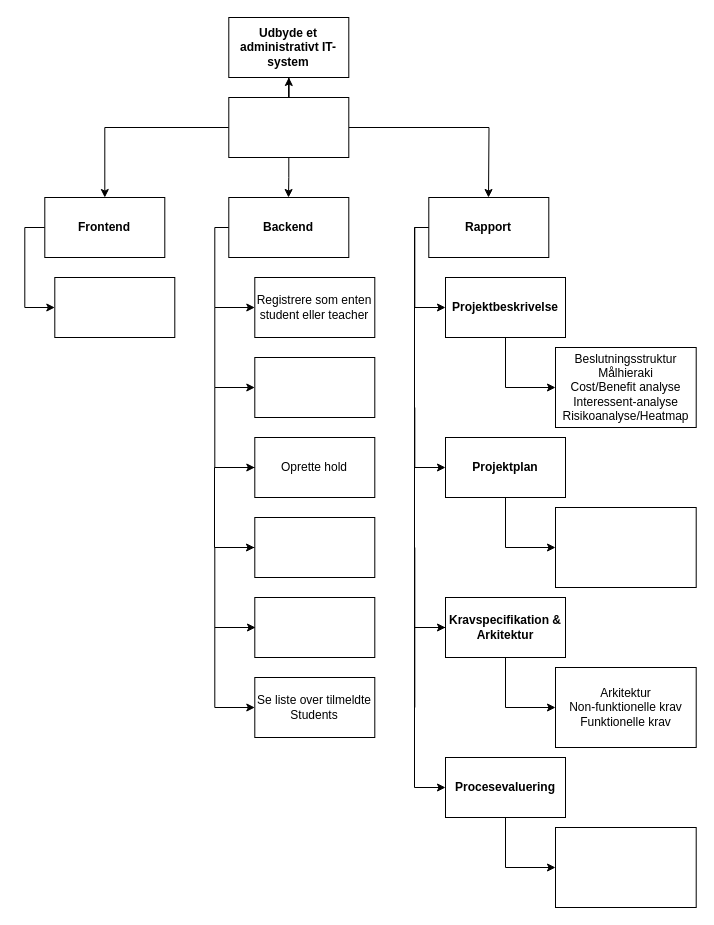
This 714x925 diagram has some shape labels left out. Here are the shapes that lost their labels. From the top down, the centre of each, then its label:
point (288, 127): Leverance af StudentTeach
point (114, 307): GUI
point (314, 387): Login/Logout
point (314, 547): Tilmelde sig forelæsninger
point (625, 547): Milepælsplan PBS Pokerplanlægning Burndown Chart
point (314, 627): Slette forelæsninger
point (625, 867): Gruppesammensætning valg af processmodel
